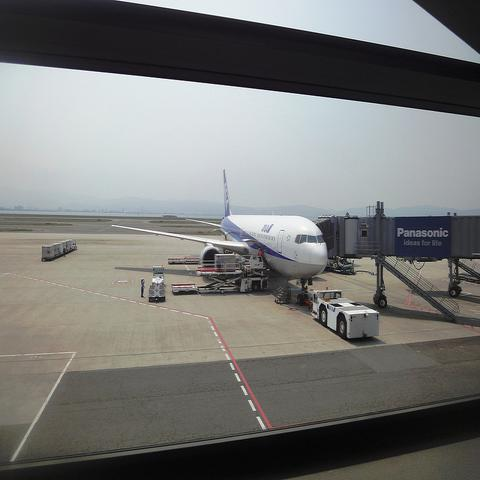truck: (312, 286, 380, 338), (41, 238, 78, 262), (152, 264, 164, 286)
